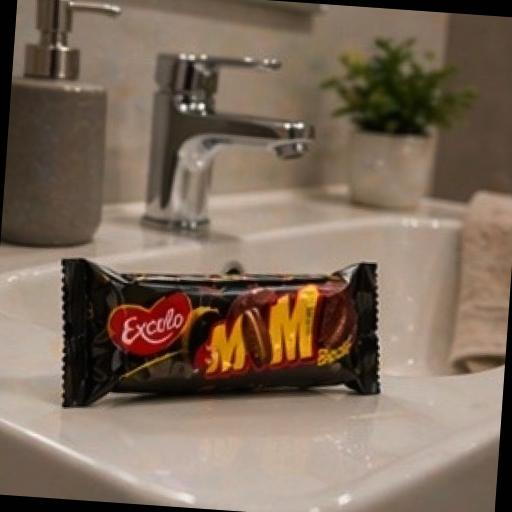MOMO: (14, 194, 426, 453)
